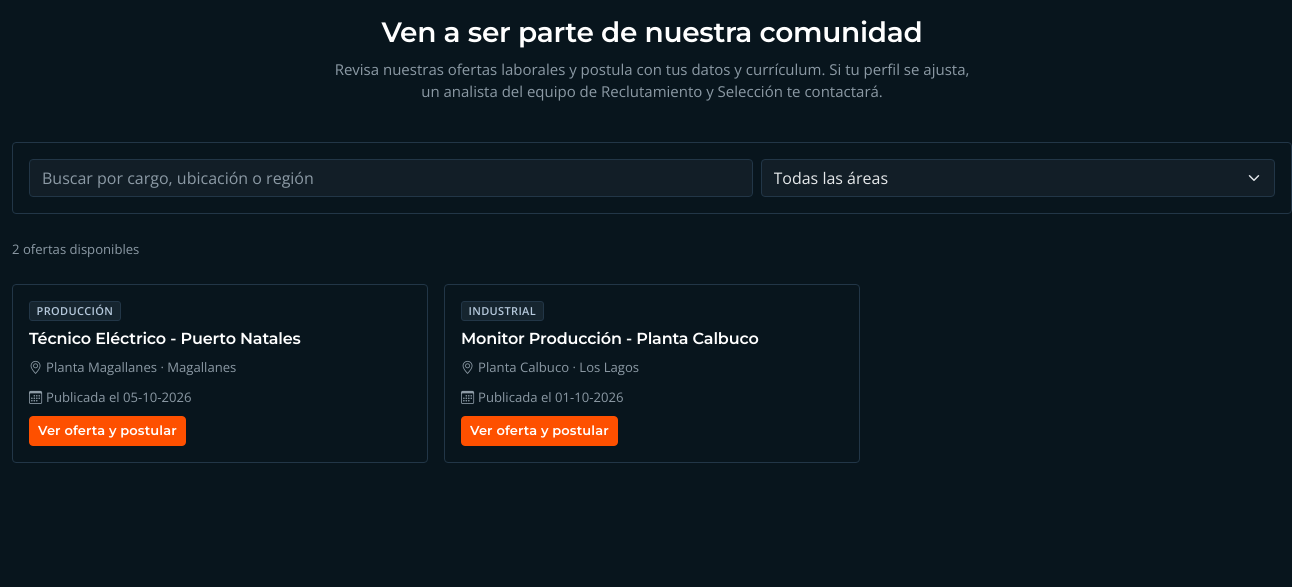
Test: Portal "Trabaja con nosotros" › abre el detalle de una oferta
Step 1. Click the link with aria-label "ver oferta técnico eléctrico" → (107, 431), box [29,416,186,446]
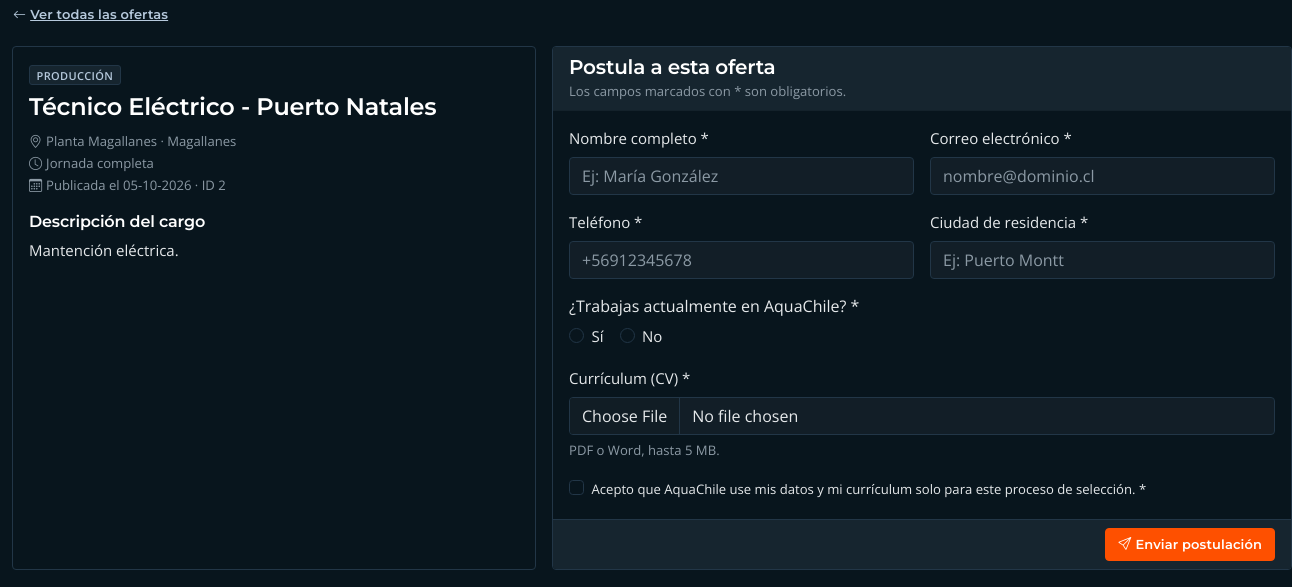
Expected: the heading "Técnico Eléctrico - Puerto Natales" is shown, [29,92,436,121]
Now the heading "Postula a esta oferta" is shown, box [569,54,776,78]
